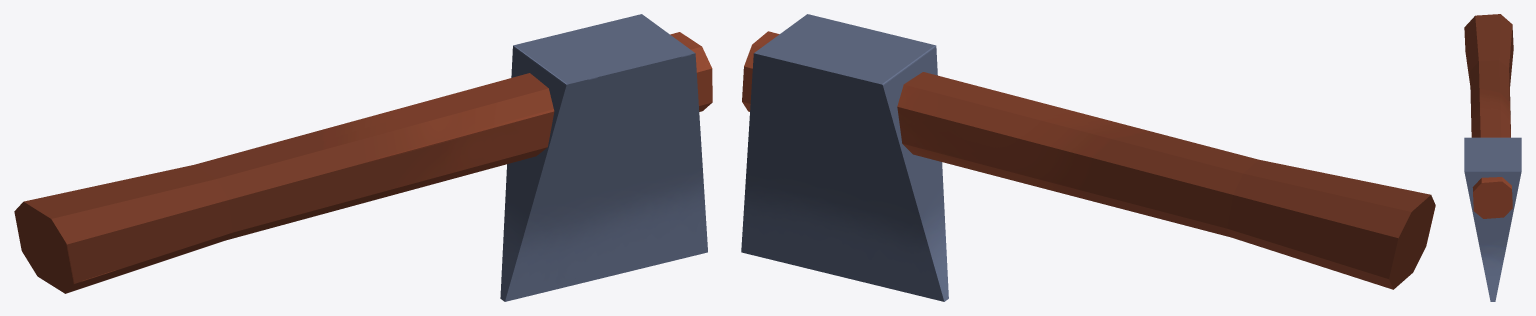
File: acha.fbx
3 views of the same model, side by side, from view 1: azimuth 30°, elevation 25°; view 2: azimuth 150°, elevation 25°; view 3: azimuth 270°, elevation 25° (orthographic). The views are drawn at different scales.
Parts seen in each view (by area): view 1: acha.001; view 2: acha.001; view 3: acha.001.
Part boxes in pixels (bbox=[...]): acha.001: bbox=[14, 14, 712, 301]; acha.001: bbox=[741, 14, 1435, 301]; acha.001: bbox=[1464, 14, 1521, 301].
Bounding box in the file's own units: 89.43 × 28.63 × 12.32.
